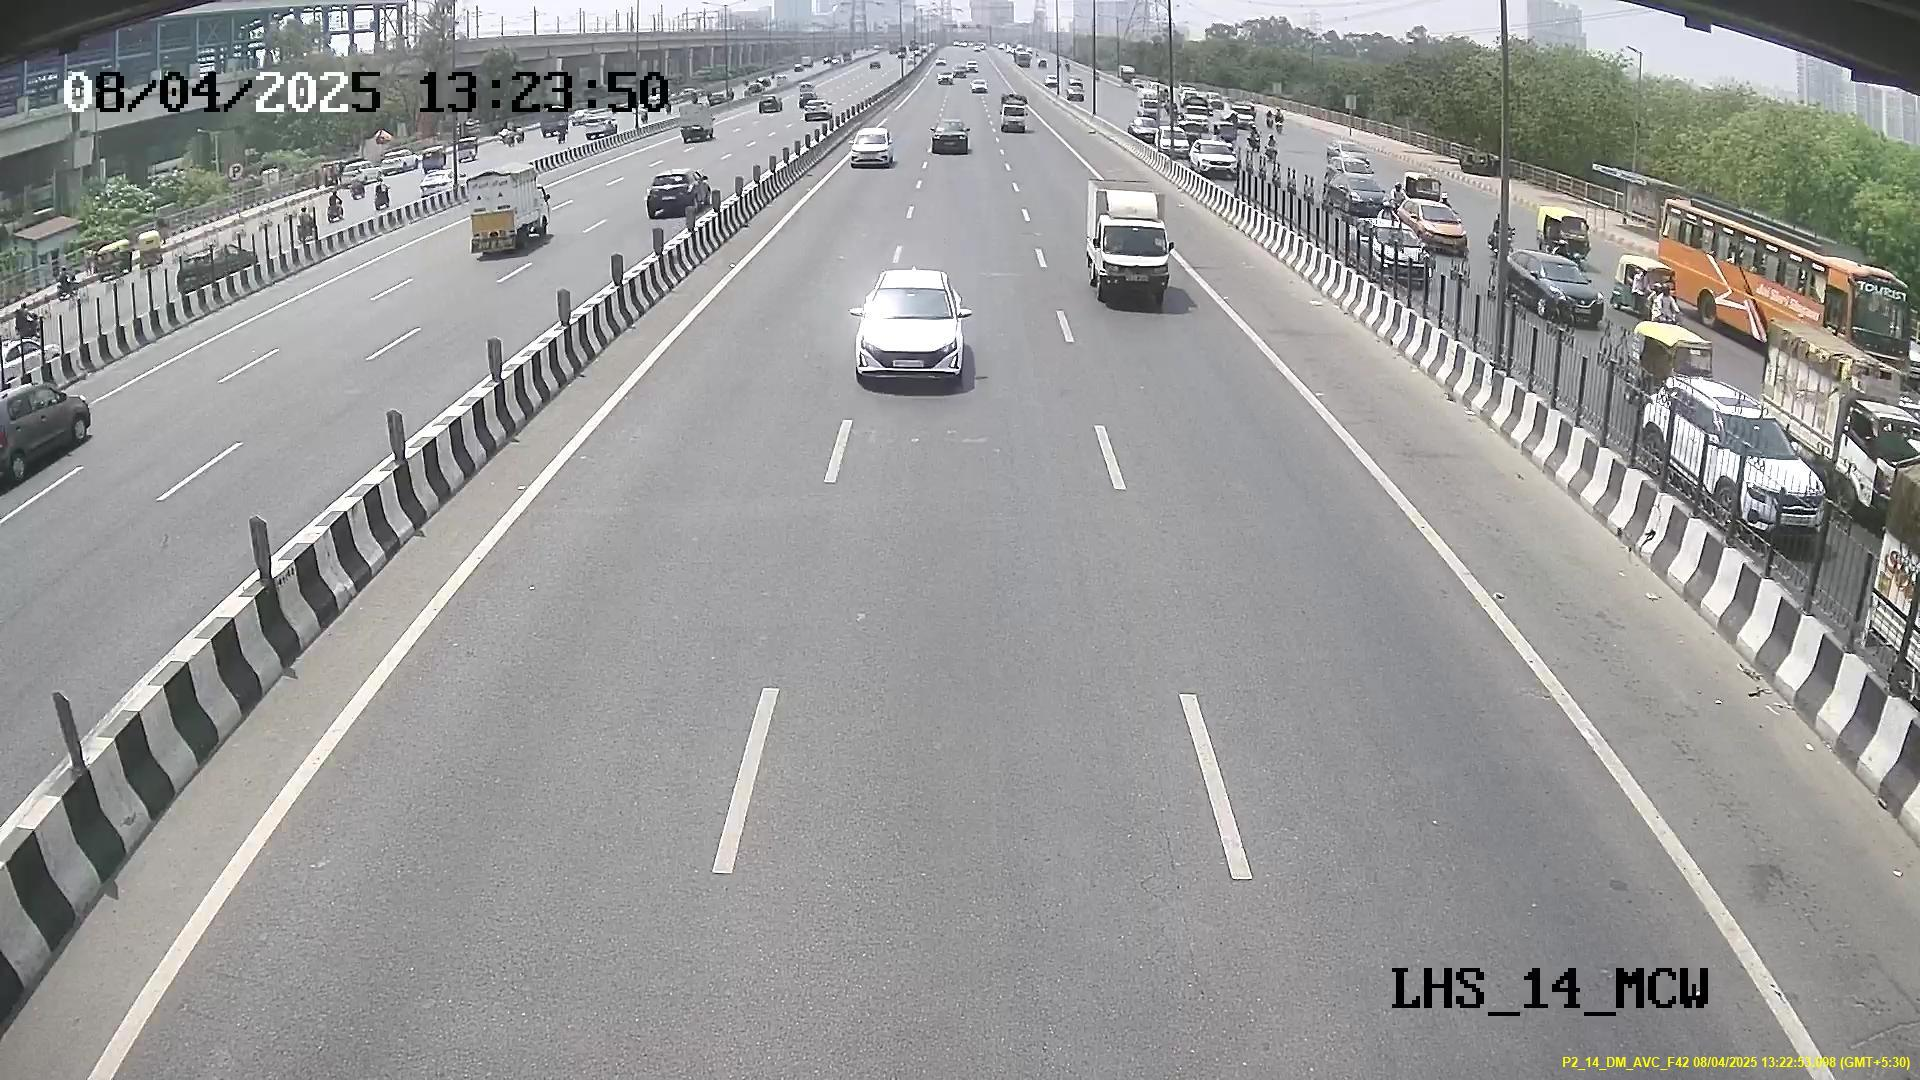car: (848, 274, 978, 390), (1091, 204, 1176, 307)
